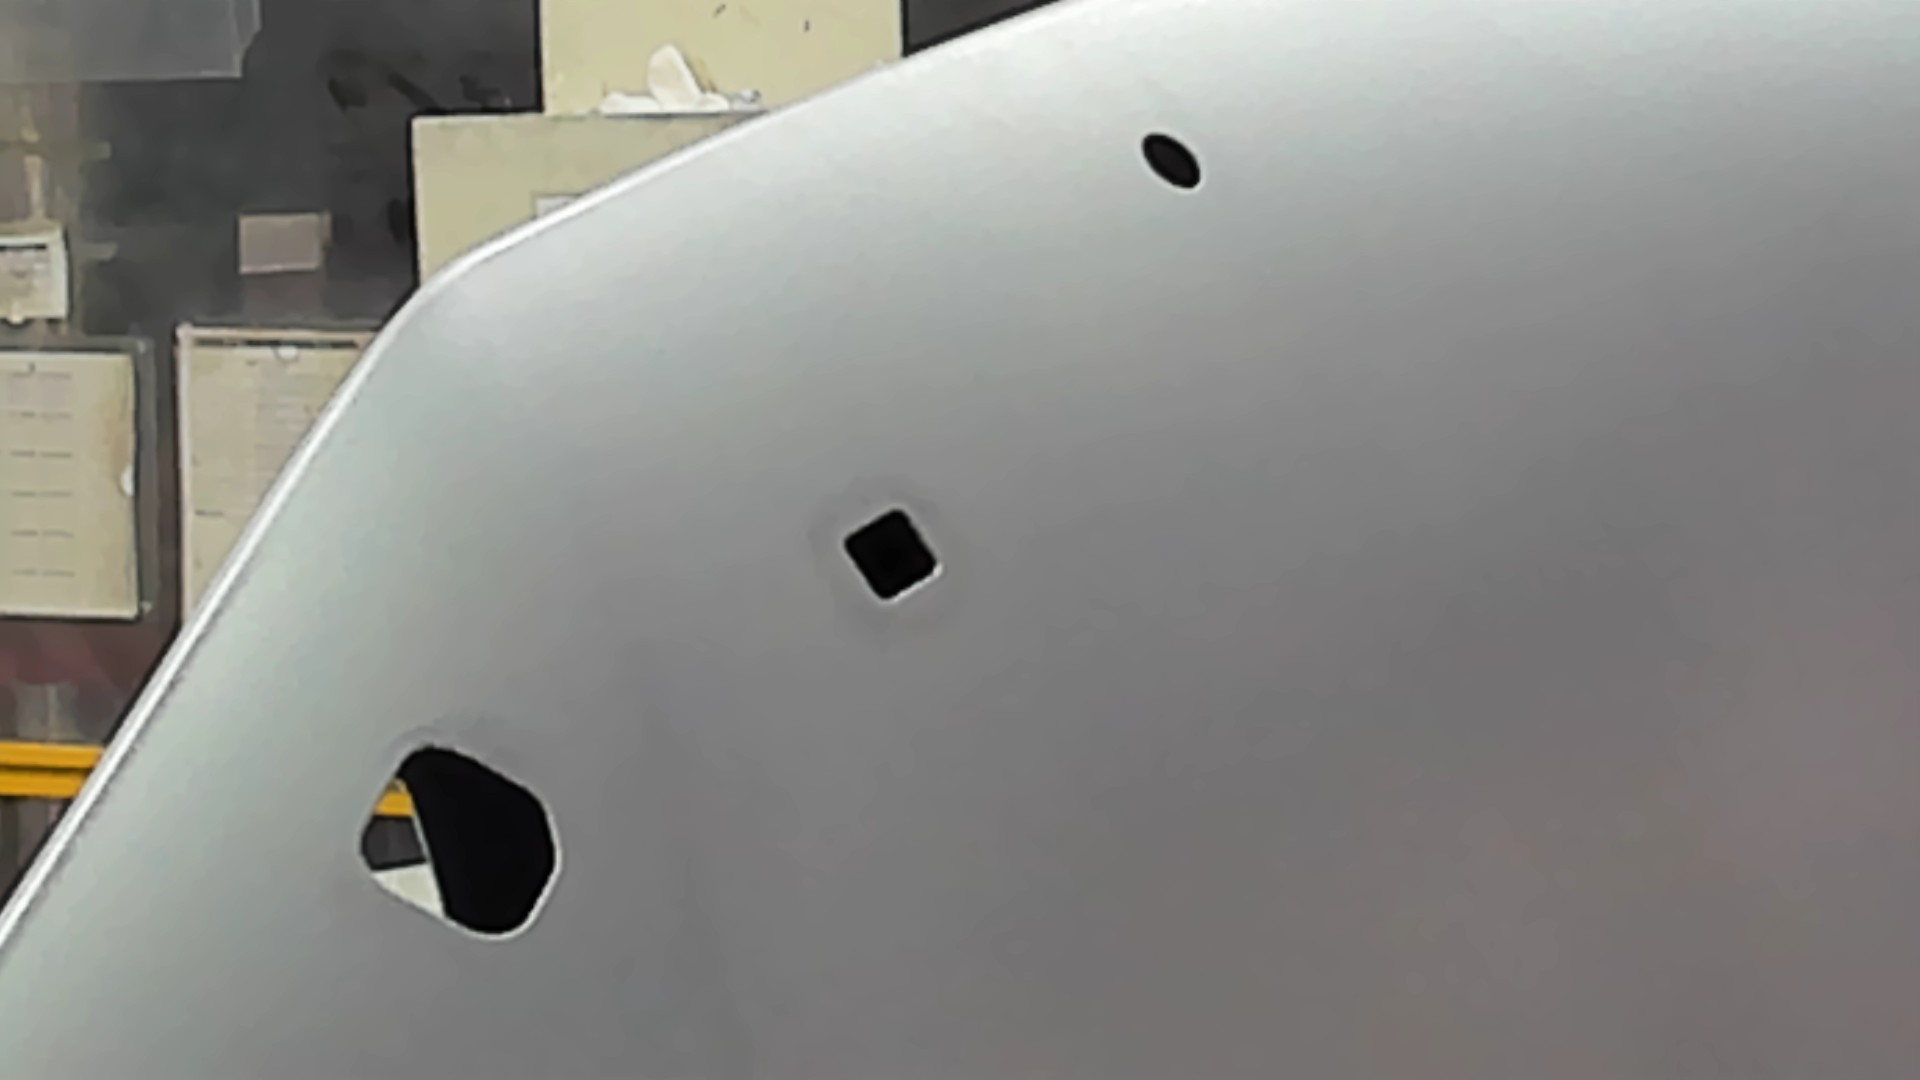chico: (1137, 127, 1204, 193)
grande: (359, 741, 564, 945)
mediano: (833, 501, 947, 607)
